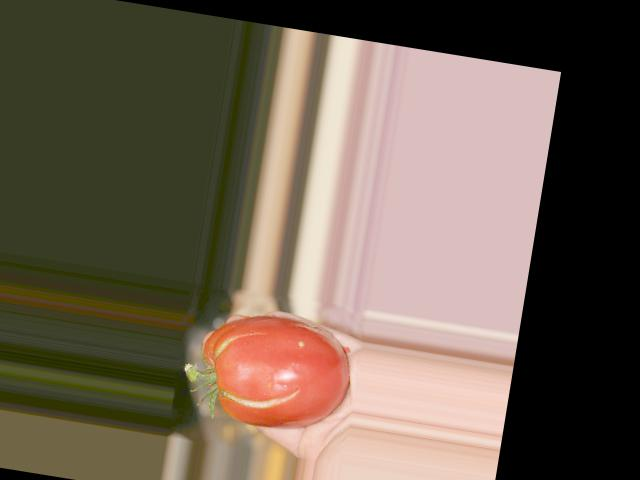tomato: (192, 304, 357, 437)
